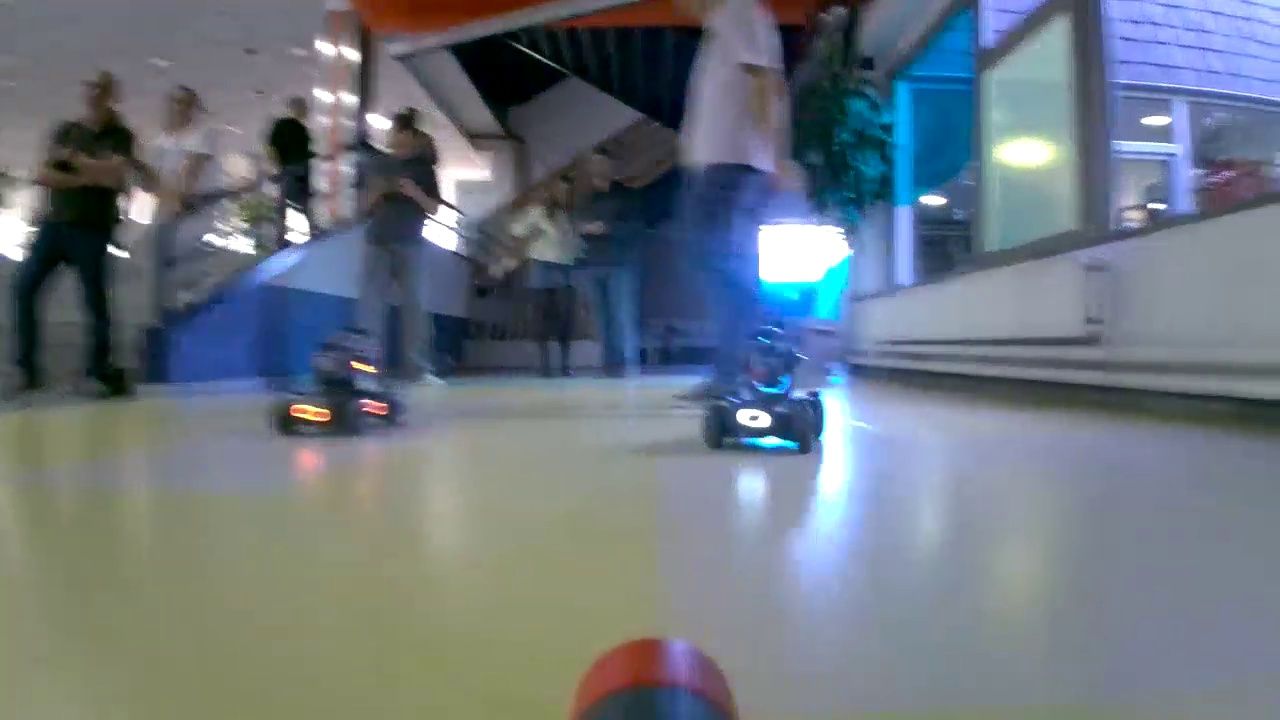robot: (706, 330, 838, 450), (267, 334, 404, 449)
